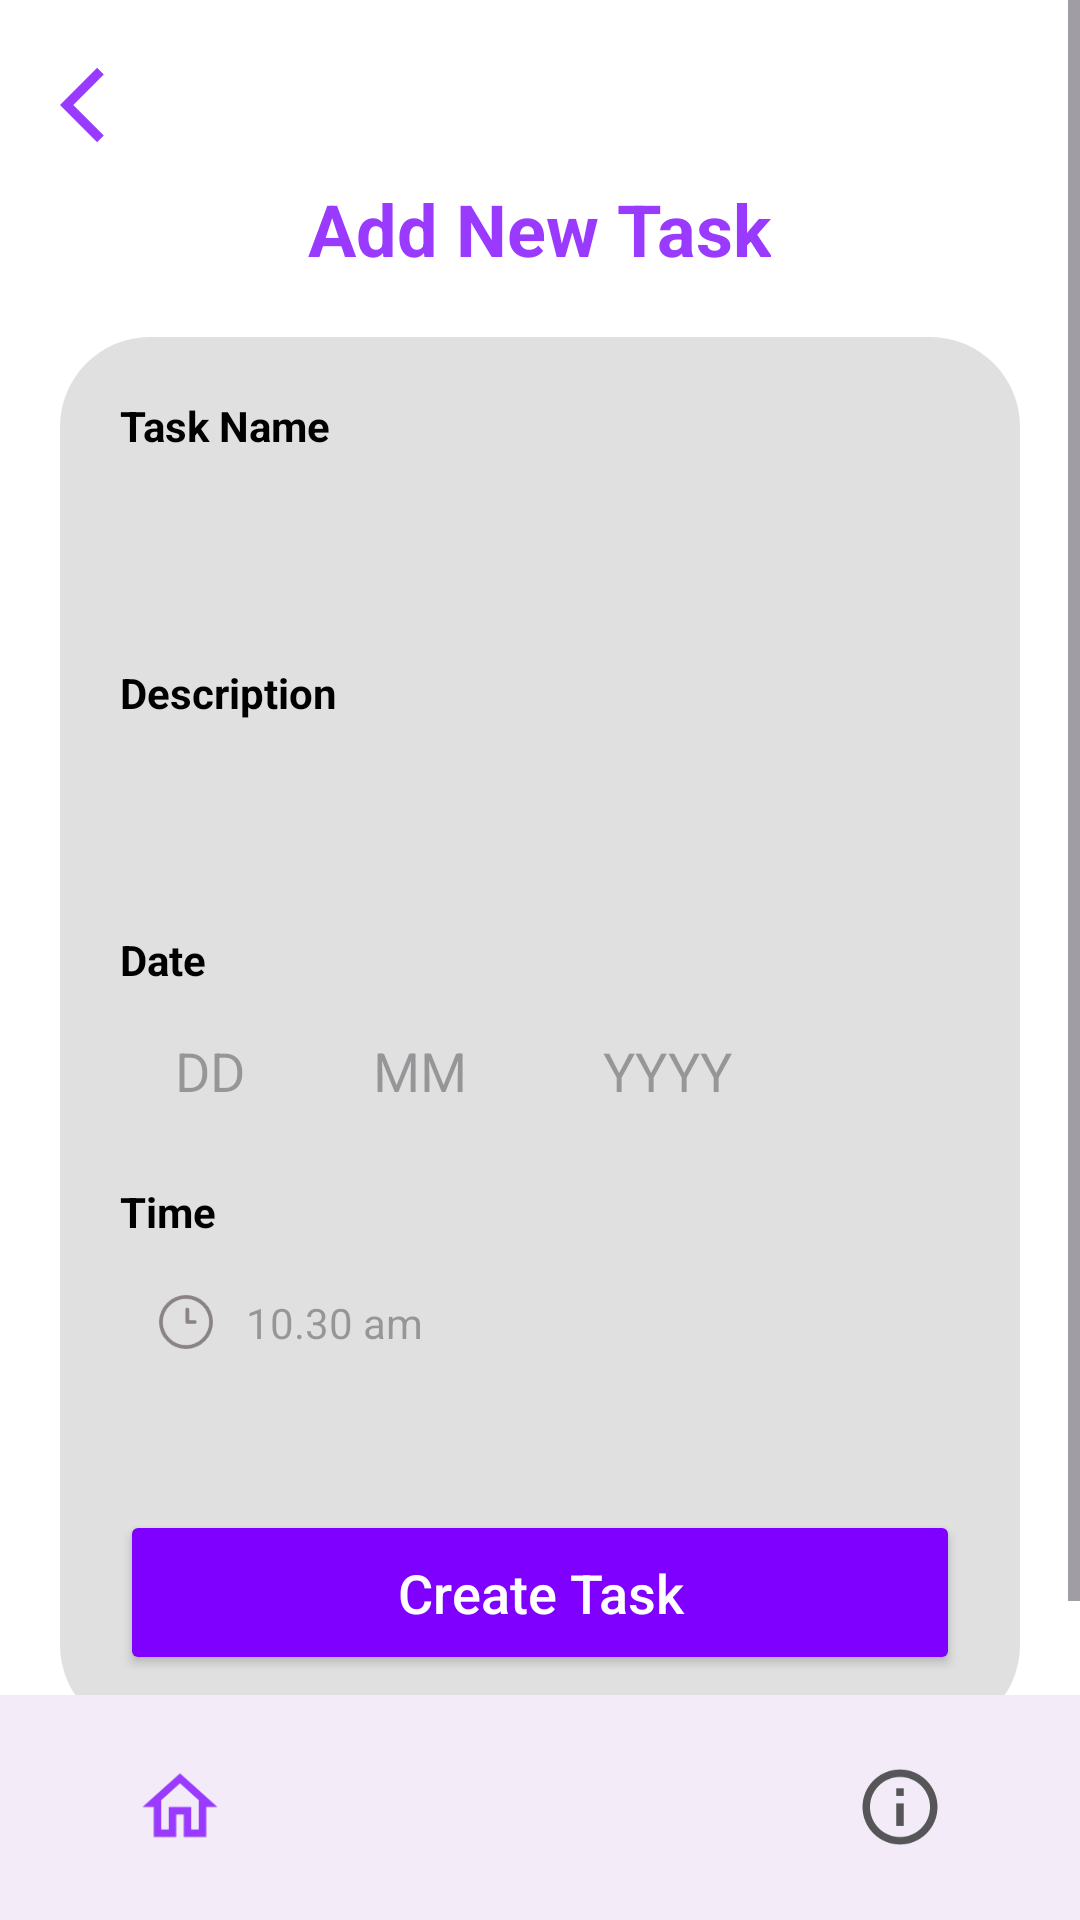

Where icons sit on this 1080 x 1920 app screen, as bbox=[x1, y1, x2, y2]:
back: bbox=[60, 68, 104, 142]
clock: bbox=[159, 1295, 213, 1349]
